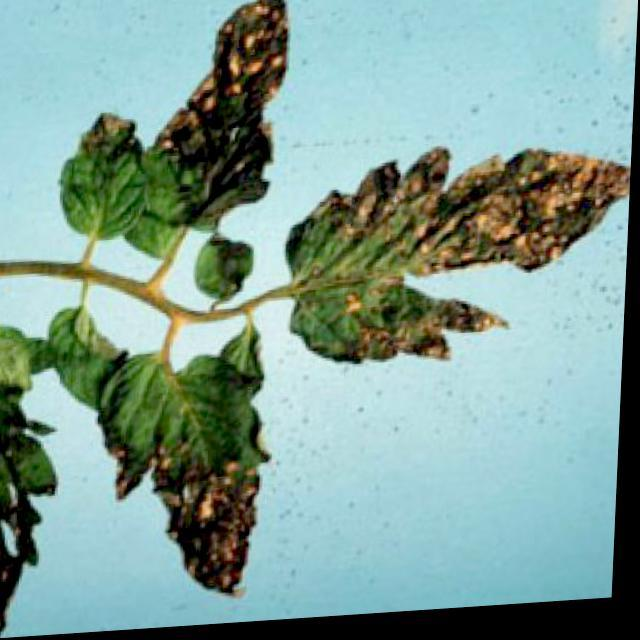Tomato Septoria spot leaf: (276, 119, 634, 412), (95, 324, 302, 608), (113, 0, 319, 281)
